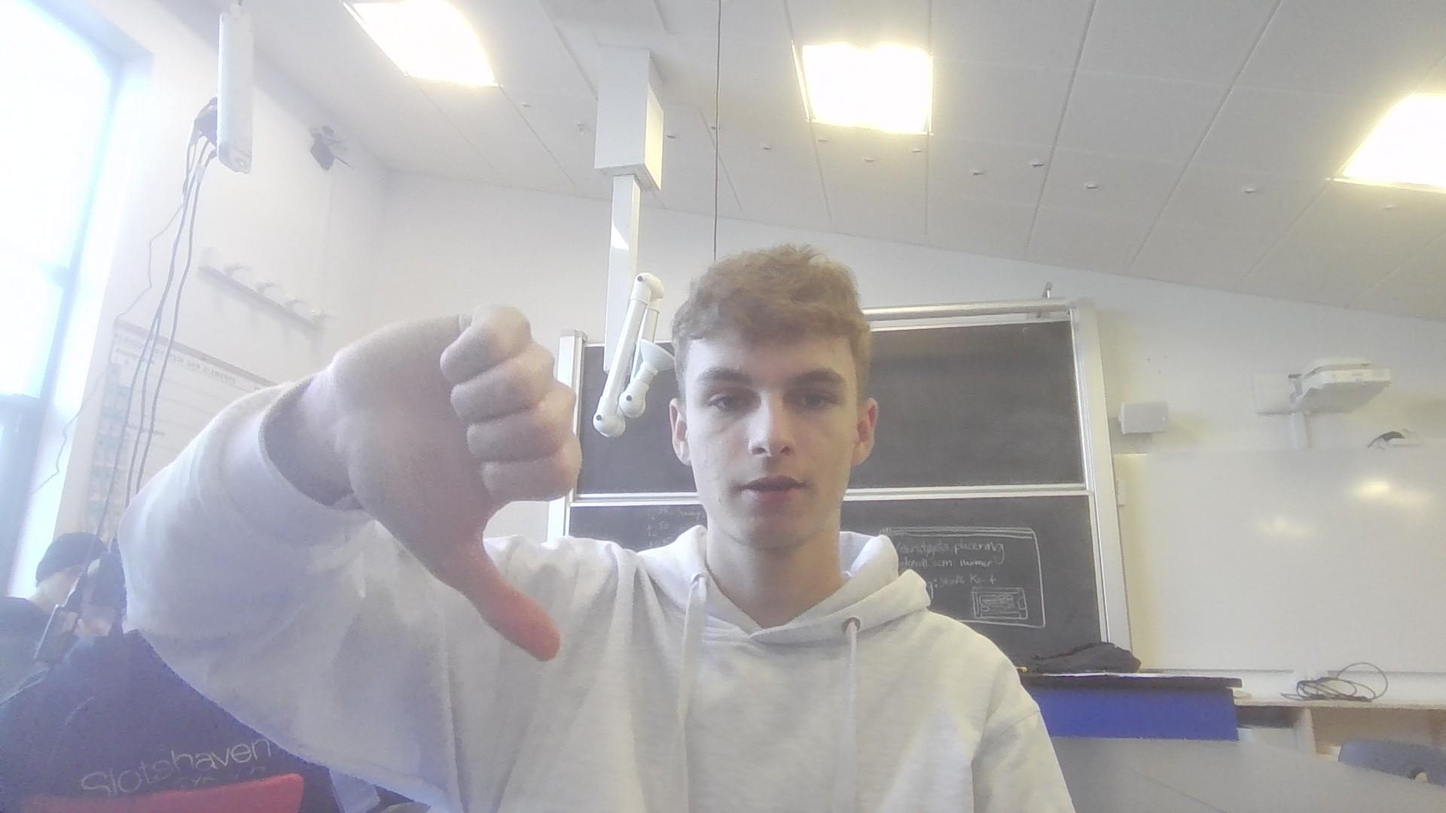thumbs down: (306, 300, 595, 662)
